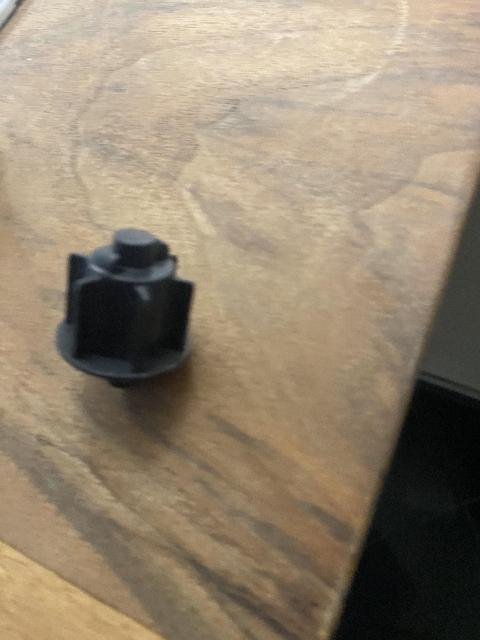Plastik: (51, 232, 200, 392)
